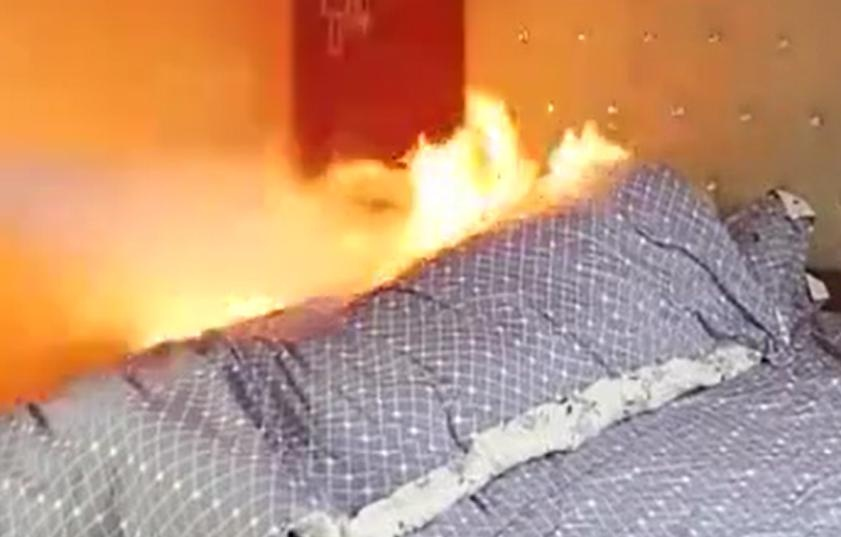fire: (121, 280, 286, 347)
